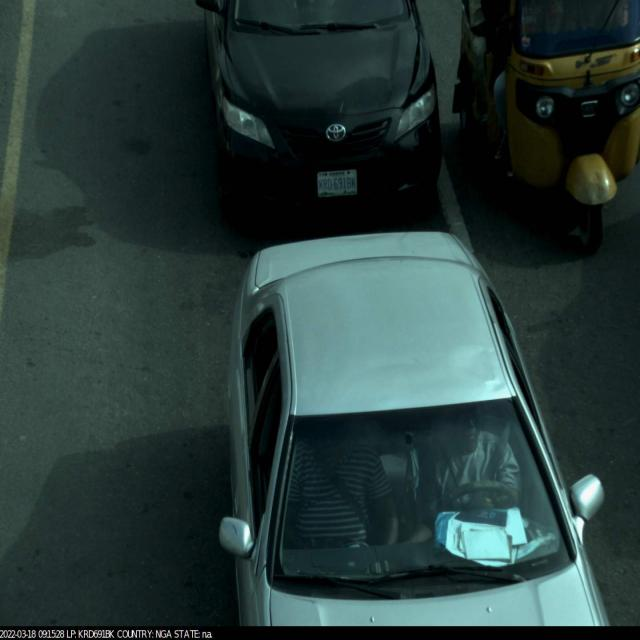windshield: (266, 388, 588, 610)
